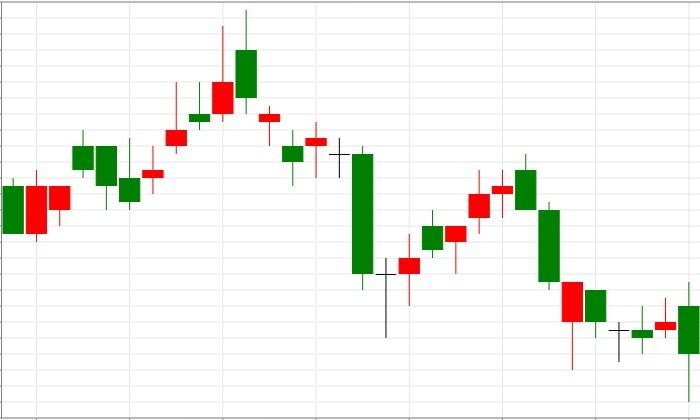bearish_engulfing_fall: (608, 282, 700, 402)
morning_star_rise: (234, 10, 421, 339)
